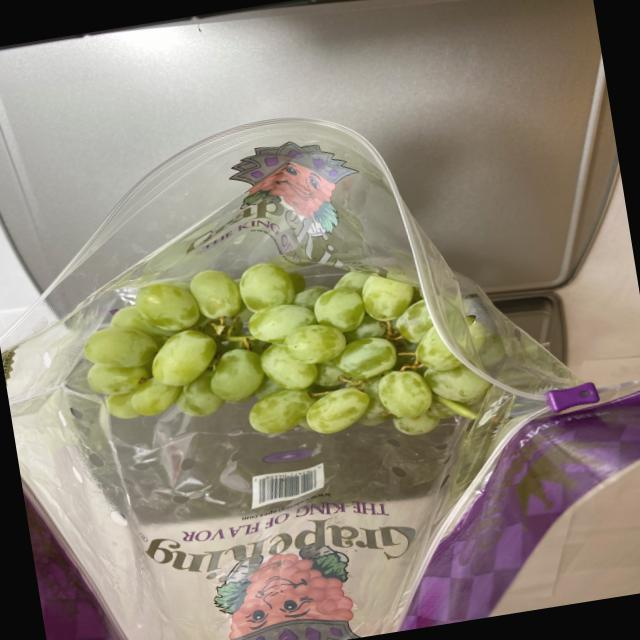grapes: (69, 218, 528, 500)
